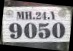character: (8, 22, 22, 39), (51, 21, 65, 38), (23, 22, 37, 38), (37, 22, 50, 38), (16, 10, 24, 19), (24, 10, 31, 19), (50, 9, 56, 19), (40, 10, 46, 19), (35, 11, 41, 19)
